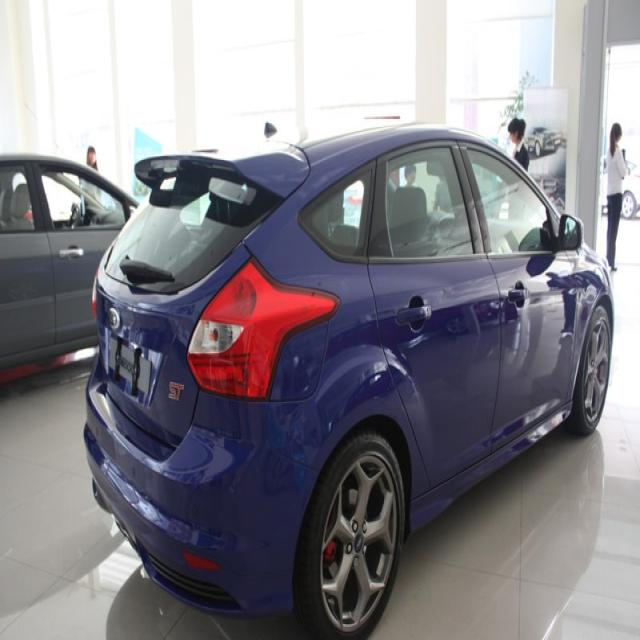back_glass: (103, 157, 289, 300)
back_right_side_light: (185, 250, 338, 402)
door: (363, 146, 502, 473)
front_right_side_door: (456, 131, 578, 460)
front_right_side_mirror: (556, 210, 586, 258)
rear_bumper: (82, 362, 315, 623)
wheel: (297, 428, 405, 640), (574, 303, 612, 427)
